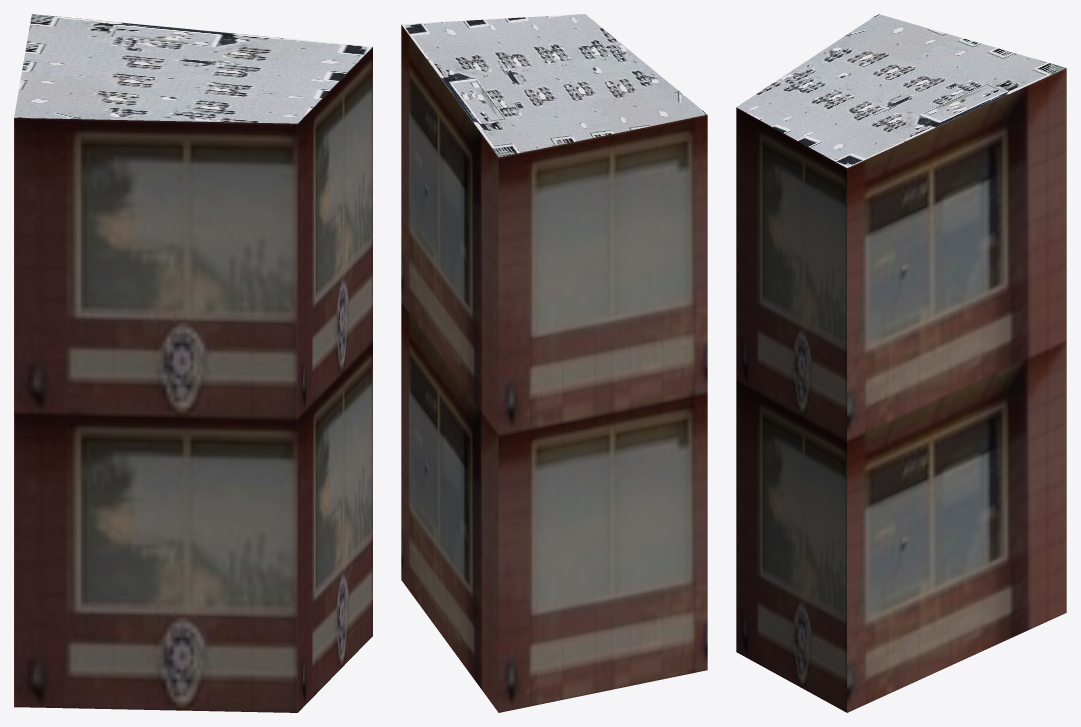
Rendered from ResTex__5195.fbx.
3 renders of one model, left to right at view 1: azimuth 30°, elevation 25°; view 2: azimuth 150°, elevation 25°; view 3: azimuth 270°, elevation 25°, orthographic. The views are drawn at different scales.
Parts seen in each view (by area): view 1: CityEngineMaterial_13_m, CityEngineMaterial_8_m; view 2: CityEngineMaterial_13_m, CityEngineMaterial_8_m; view 3: CityEngineMaterial_13_m, CityEngineMaterial_8_m.
Boxes of the visible parts, x1=… form: CityEngineMaterial_13_m: x1=14, y1=47, x2=372, y2=712; CityEngineMaterial_8_m: x1=14, y1=14, x2=372, y2=123; CityEngineMaterial_13_m: x1=401, y1=25, x2=707, y2=712; CityEngineMaterial_8_m: x1=401, y1=14, x2=707, y2=157; CityEngineMaterial_13_m: x1=736, y1=68, x2=1066, y2=712; CityEngineMaterial_8_m: x1=736, y1=14, x2=1065, y2=167.
Size of the model in its own units: 3.64 by 6 by 3.3.
2 materials, 2 textured.
